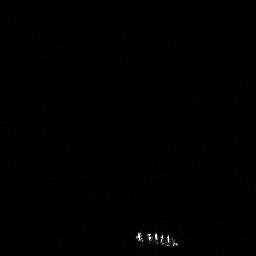ship: (132, 227, 181, 250)
